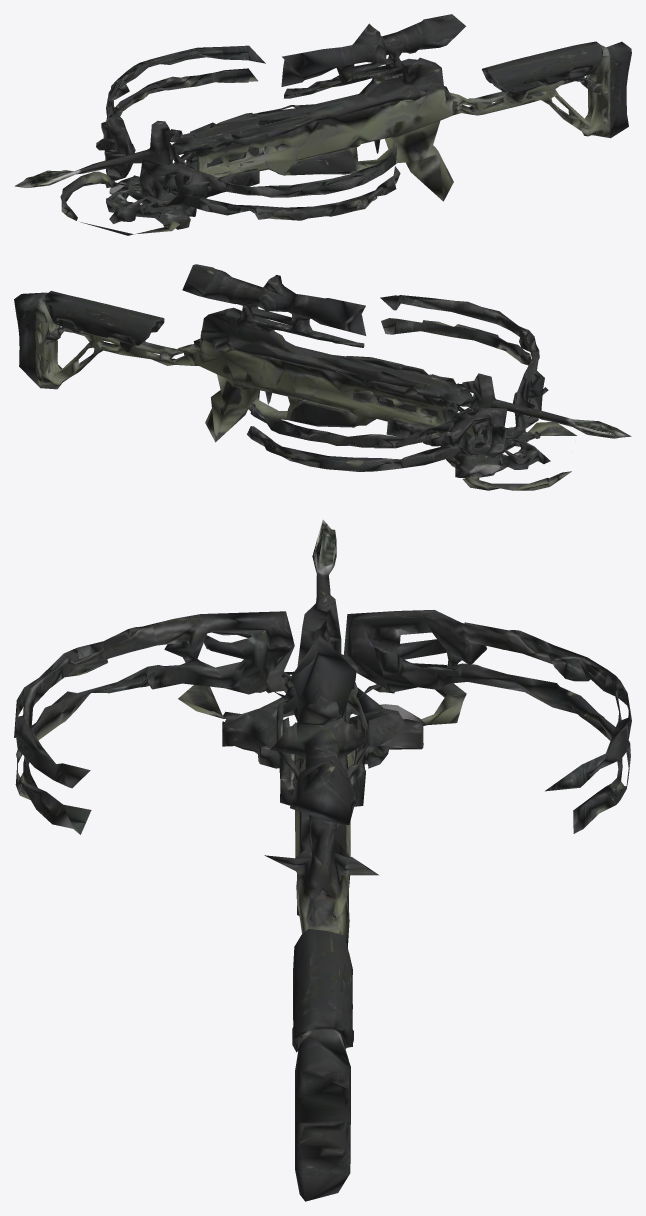
File: gun_crossbow_lo.glb
The picture shows the model from 3 angles, top to bottom: view 1: azimuth 30°, elevation 25°; view 2: azimuth 150°, elevation 25°; view 3: azimuth 270°, elevation 25°; orthographic projection. The views are drawn at different scales.
Size of the model in its own units: 1.9 by 0.551 by 0.9293.
Materials: 1 (1 with a texture image).
